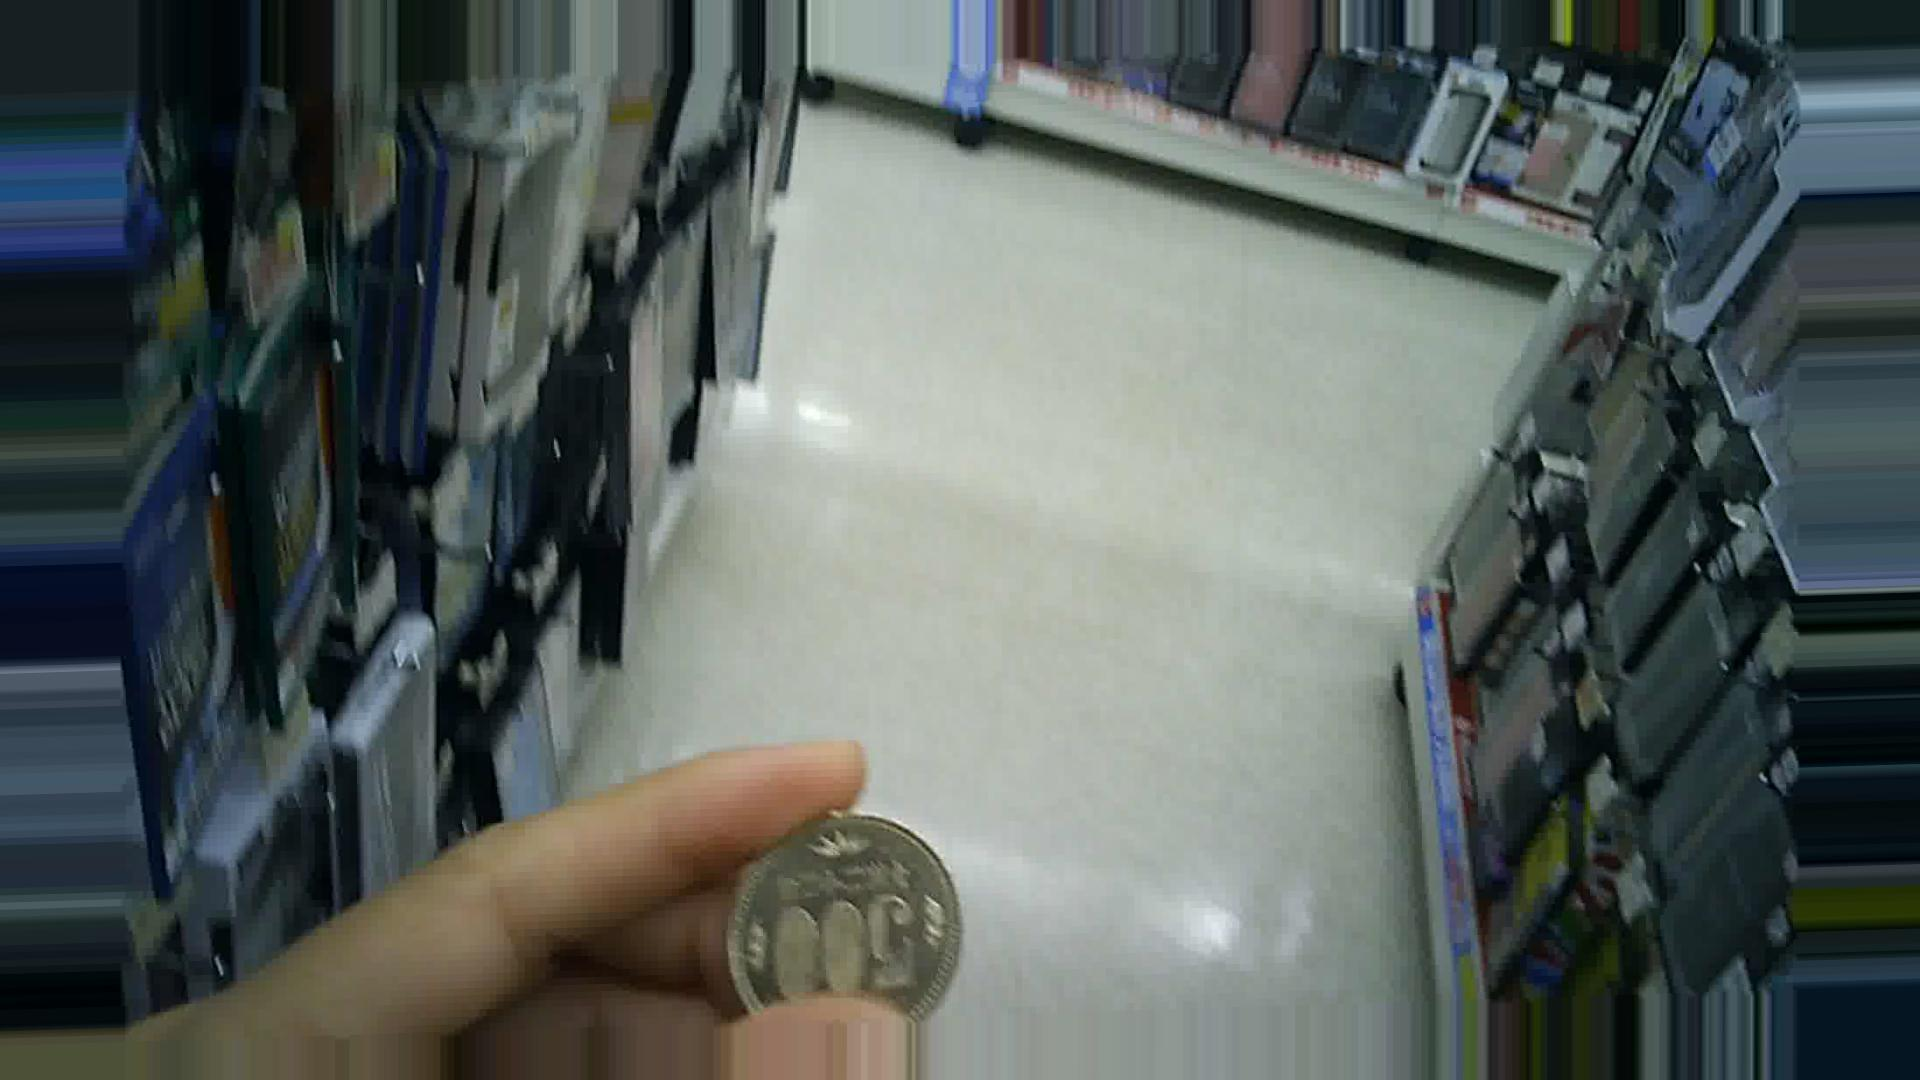500 Yen: (725, 807, 978, 1033)
